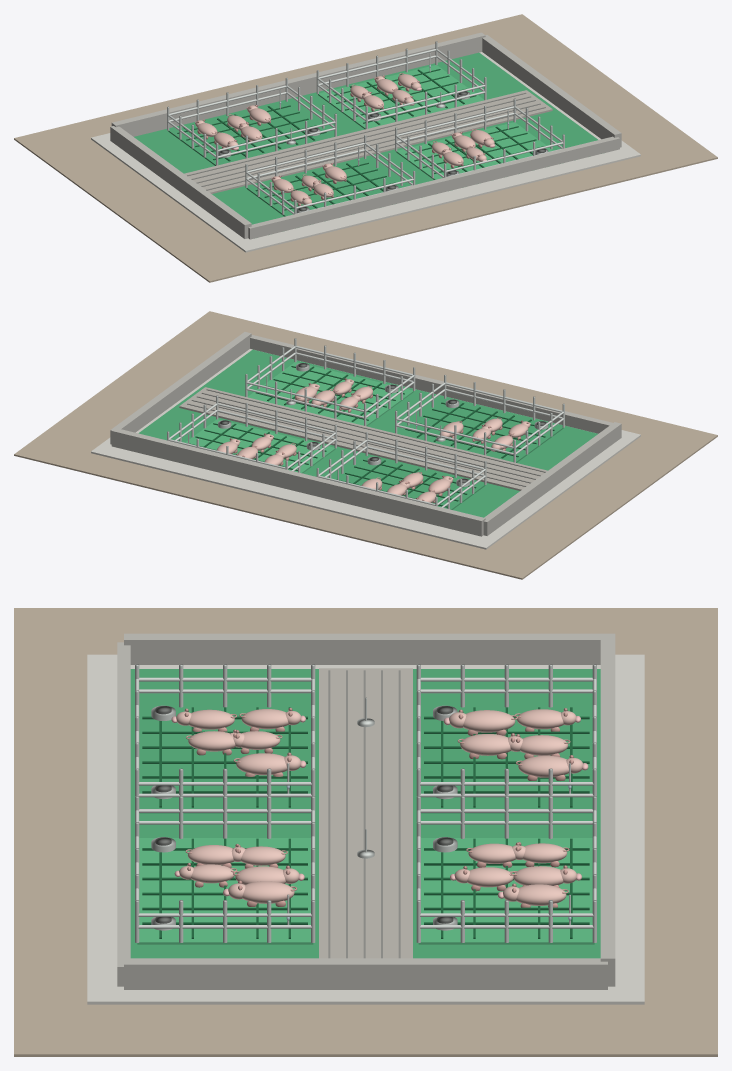
File: parrilla.glb
The picture shows the model from 3 angles, top to bottom: view 1: azimuth 30°, elevation 25°; view 2: azimuth 150°, elevation 25°; view 3: azimuth 270°, elevation 25°; orthographic projection. The views are drawn at different scales.
Visible parts, largest first — view 1: outside-yard, plastic-platform, concrete-base, central-plastic-walkway, back-wall-low, front-wall-low, parrilla-corral-2-plastic-floor, parrilla-corral-1-plastic-floor, left-wall-low, right-wall-low, parrilla-corral-3-plastic-floor, parrilla-corral-4-plastic-floor (+5 smaller); view 2: outside-yard, plastic-platform, central-plastic-walkway, back-wall-low, concrete-base, front-wall-low, parrilla-corral-3-plastic-floor, parrilla-corral-4-plastic-floor, left-wall-low, right-wall-low, parrilla-corral-2-plastic-floor, parrilla-corral-1-plastic-floor (+4 smaller); view 3: outside-yard, concrete-base, plastic-platform, central-plastic-walkway, right-wall-low, left-wall-low, parrilla-corral-4-plastic-floor, parrilla-corral-2-plastic-floor, parrilla-corral-3-plastic-floor, parrilla-corral-1-plastic-floor, back-wall-low, front-wall-low (+28 smaller).
Part boxes in pixels (x1,y1,x2,y2): outside-yard: (14,14,717,282); plastic-platform: (134,52,597,224); concrete-base: (91,52,640,252); central-plastic-walkway: (184,90,552,193); back-wall-low: (111,32,485,136); front-wall-low: (248,136,619,239); parrilla-corral-2-plastic-floor: (318,65,483,129); parrilla-corral-1-plastic-floor: (168,101,334,165); left-wall-low: (110,126,251,238); right-wall-low: (482,35,621,147); parrilla-corral-3-plastic-floor: (246,159,403,216); parrilla-corral-4-plastic-floor: (396,122,553,179); outside-yard: (14,311,717,579); plastic-platform: (138,349,597,517); central-plastic-walkway: (179,387,547,490); back-wall-low: (111,428,485,536); concrete-base: (91,349,640,549); front-wall-low: (250,335,612,433); parrilla-corral-3-plastic-floor: (397,398,563,462); parrilla-corral-4-plastic-floor: (248,362,413,426); left-wall-low: (483,422,621,535); right-wall-low: (110,332,251,444); parrilla-corral-2-plastic-floor: (185,419,335,473); parrilla-corral-1-plastic-floor: (335,456,485,509); outside-yard: (14,608,717,1056); concrete-base: (87,654,644,1004); plastic-platform: (130,669,600,958); central-plastic-walkway: (319,668,412,958); right-wall-low: (124,958,607,989); left-wall-low: (124,633,600,664); parrilla-corral-4-plastic-floor: (137,838,313,944); parrilla-corral-2-plastic-floor: (418,838,594,944); parrilla-corral-3-plastic-floor: (139,706,310,813); parrilla-corral-1-plastic-floor: (421,706,592,813); back-wall-low: (600,633,615,986); front-wall-low: (117,642,130,986).
Bounding box in the file's own units: 36 × 2.63 × 24.
